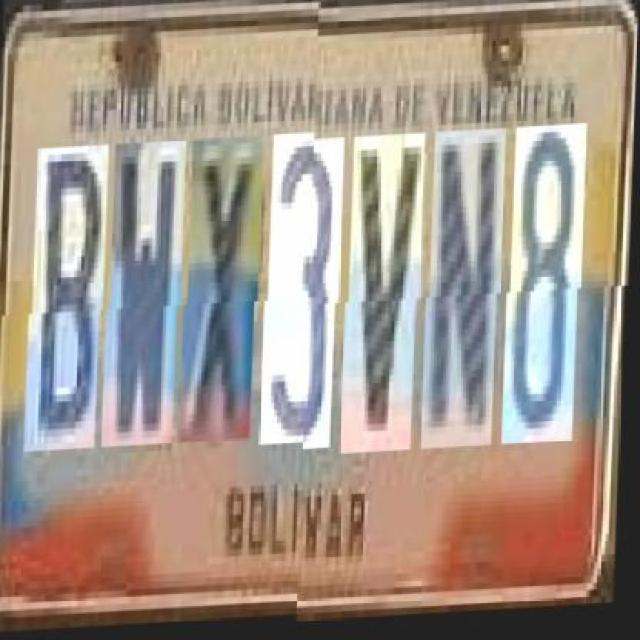3: (266, 142, 346, 456)
8: (508, 131, 588, 451)
b: (30, 153, 110, 459)
n: (428, 134, 508, 454)
v: (347, 138, 427, 458)
w: (108, 150, 188, 456)
x: (185, 146, 264, 452)
